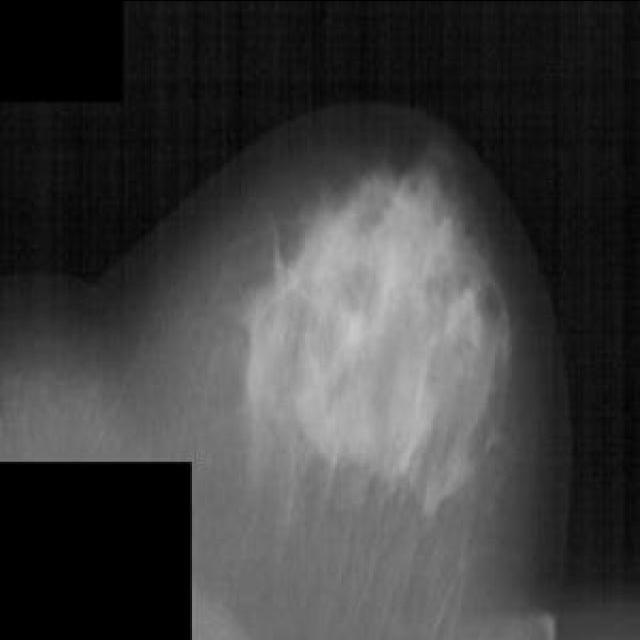tumor: (261, 168, 509, 481)
